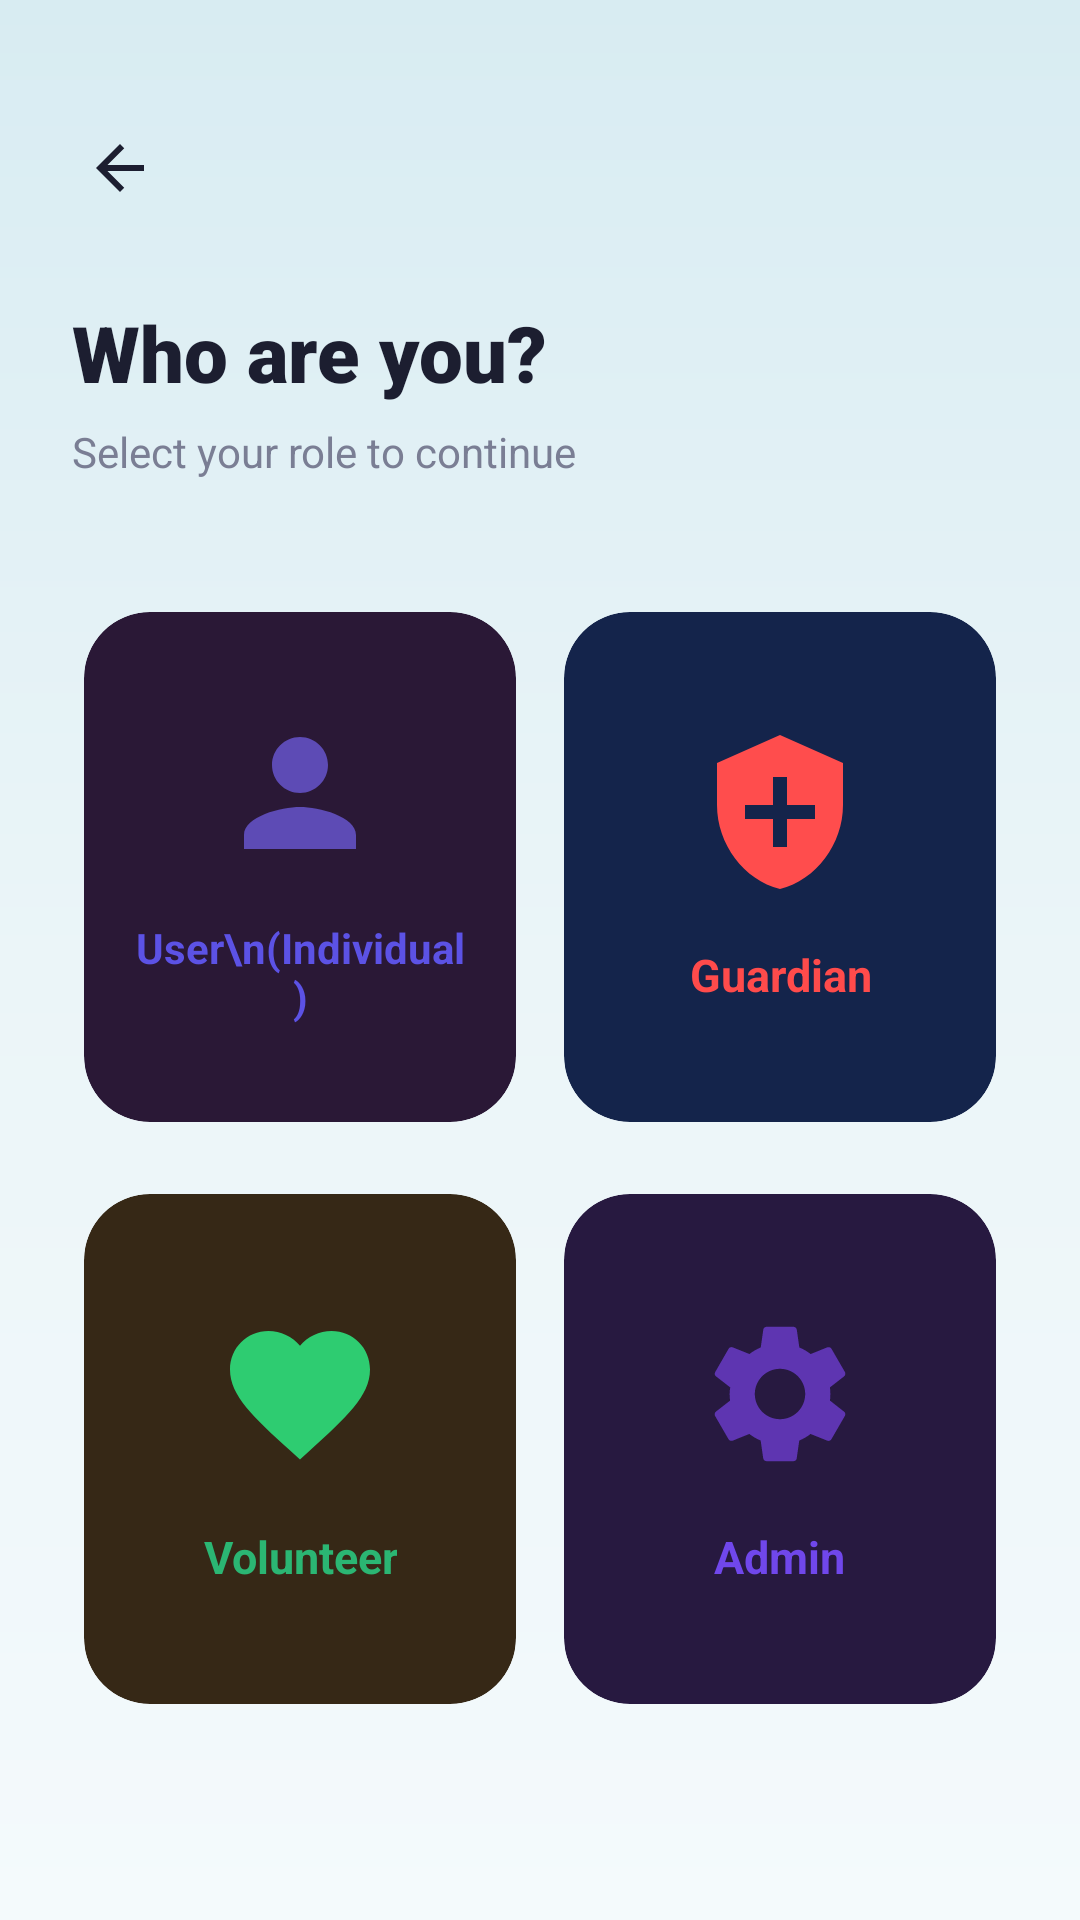

Icons on this 1080px×1920px Android screen, each with its box as bbox=[x1, y1, x2, y2]:
Back: bbox=[96, 144, 144, 192]
